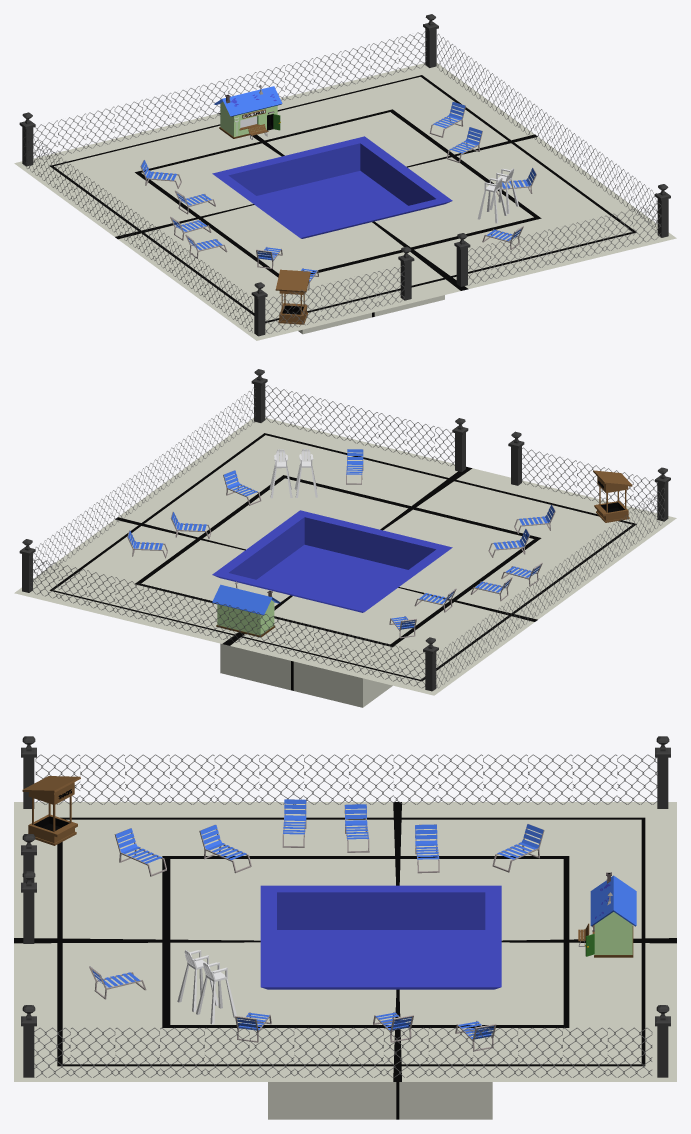
Rendered from pool.glb.
3 renders of one model, top to bottom at view 1: azimuth 30°, elevation 25°; view 2: azimuth 150°, elevation 25°; view 3: azimuth 270°, elevation 25°, orthographic. The views are drawn at different scales.
Parts seen in each view (by area): view 1: poolS, snacks, Cube.006; view 2: poolS, snacks; view 3: poolS, snacks, Cube.005, Cube.006.
Part boxes in pixels (x1,y1,x2,y2): poolS: [14, 14, 676, 340]; snacks: [275, 269, 310, 324]; Cube.006: [477, 177, 507, 223]; poolS: [14, 369, 676, 707]; snacks: [593, 470, 632, 522]; poolS: [14, 736, 676, 1119]; snacks: [22, 776, 80, 845]; Cube.005: [196, 962, 236, 1024]; Cube.006: [177, 950, 218, 1012].
Size of the model in its own units: 600 by 200 by 600.
3 materials, 3 textured.
